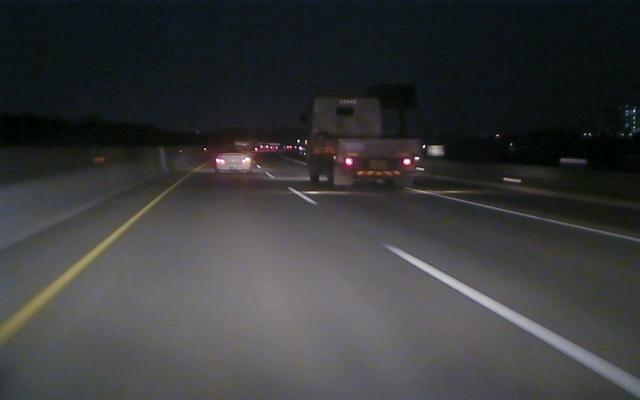lane: (290, 189, 639, 396), (2, 197, 159, 344), (407, 188, 639, 244)
